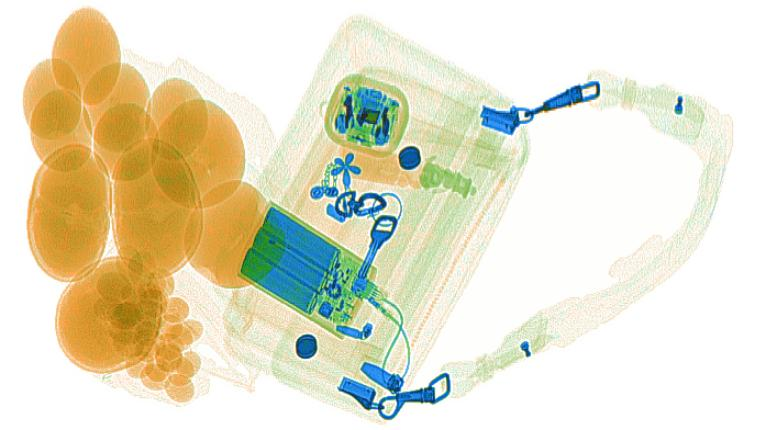battery: (238, 196, 377, 342)
